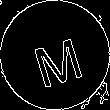M_N: (25, 24, 85, 86)
